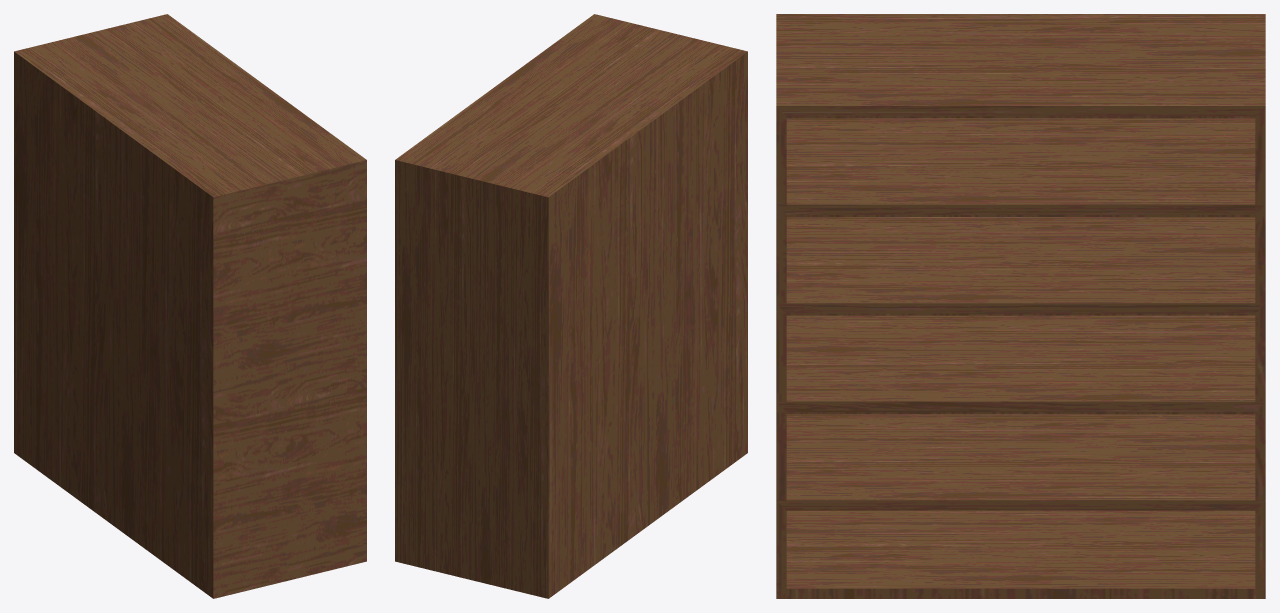
File: wardrobe-shelves.glb
3 views of the same model, side by side, from view 1: azimuth 30°, elevation 25°; view 2: azimuth 150°, elevation 25°; view 3: azimuth 270°, elevation 25° (orthographic). The views are drawn at different scales.
Visible parts, largest first — view 1: Wardrobe_shelves; view 2: Wardrobe_shelves; view 3: Wardrobe_shelves.
Part boxes in pixels (<box>): Wardrobe_shelves: <box>14,14,366,598</box>; Wardrobe_shelves: <box>395,14,747,598</box>; Wardrobe_shelves: <box>776,14,1265,598</box>.
Bounding box in the file's own units: 0.8 × 2 × 1.8.
1 material, 1 textured.
